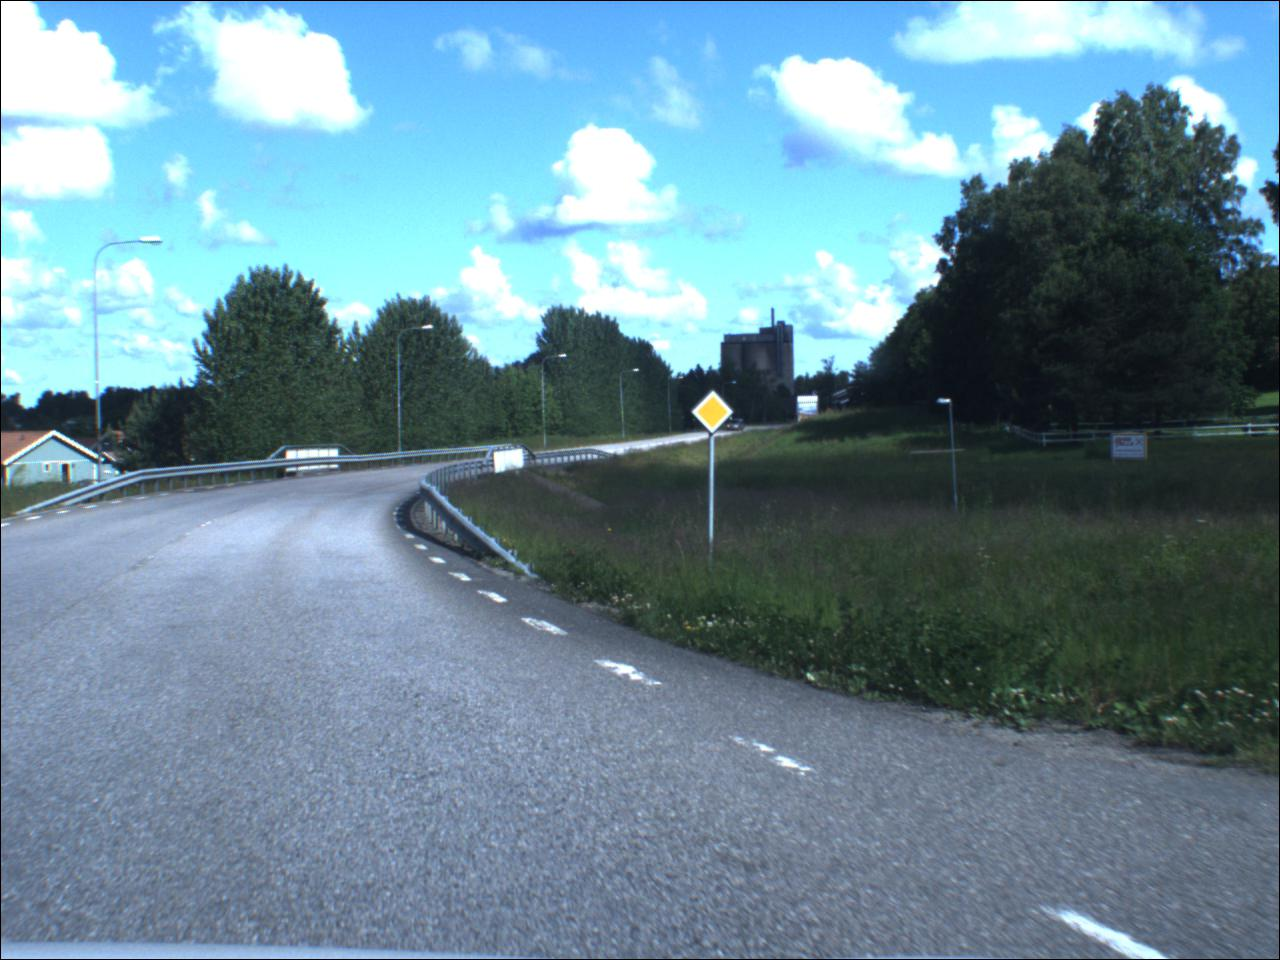PRIORITY_ROAD: (692, 391, 738, 437)
